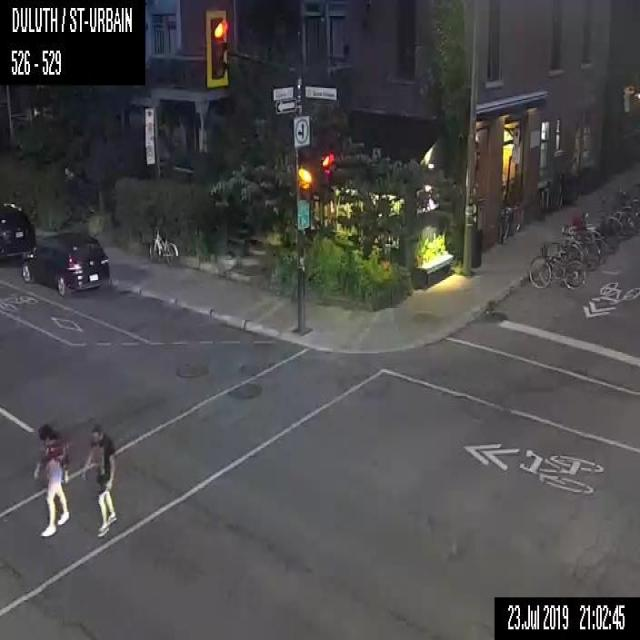pedestrian: (34, 423, 69, 537), (81, 426, 116, 538)
vehicle: (22, 232, 108, 294), (0, 203, 35, 263)
